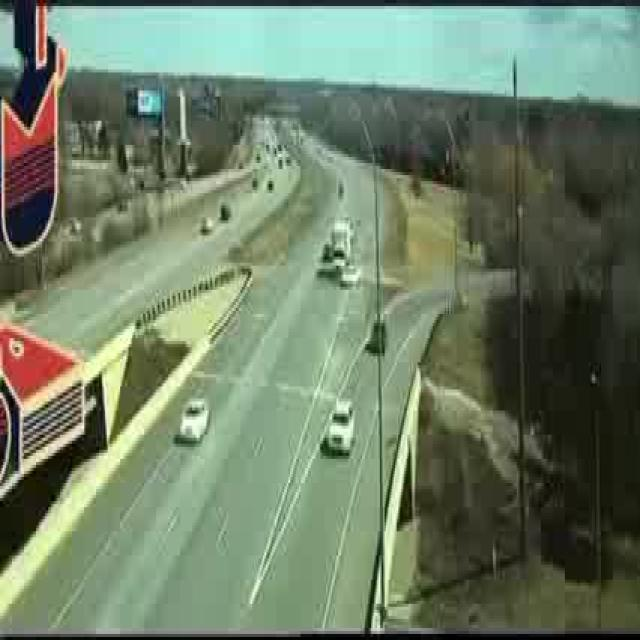multiple_accident: (317, 204, 364, 296)
normal: (169, 384, 220, 457), (316, 387, 360, 466), (196, 196, 236, 241)
